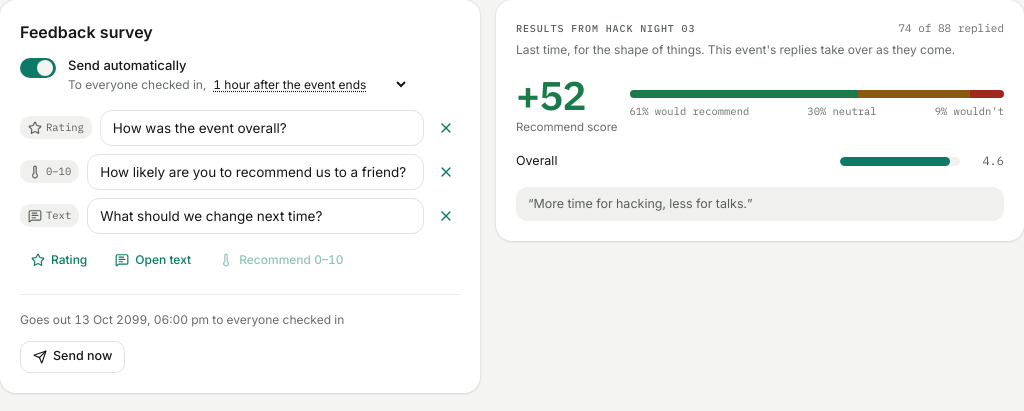
Scenario: the feedback survey › sends nothing when the organiser says not yet
Click the button "Send now" at (73, 356), box left=20, top=340, right=125, bottom=372
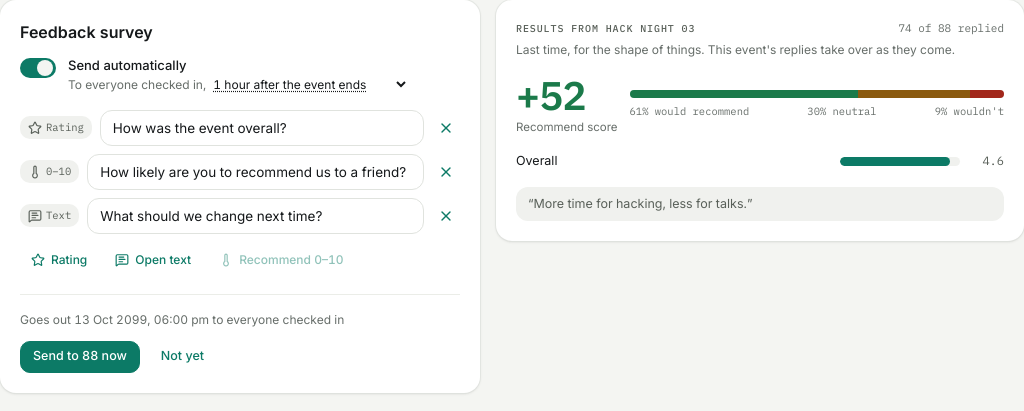
Click the button "Not yet" at (182, 356), box left=148, top=340, right=217, bottom=372
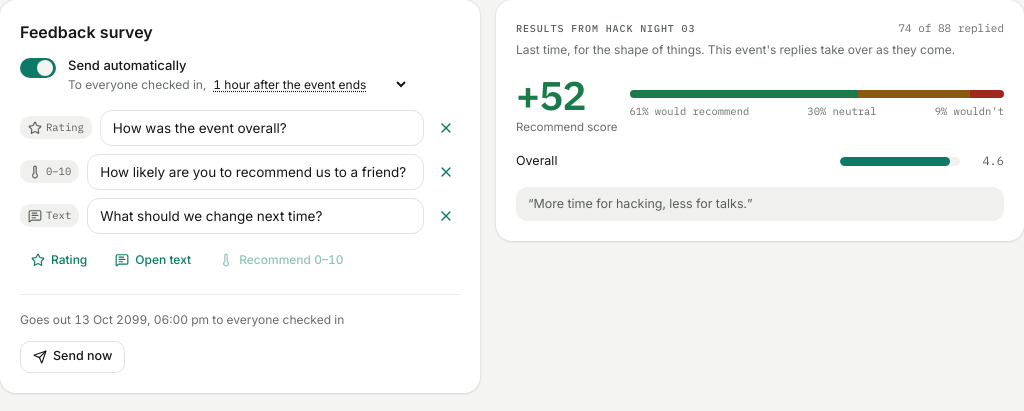
Expected: the button "Send now" is shown, left=20, top=340, right=125, bottom=372
